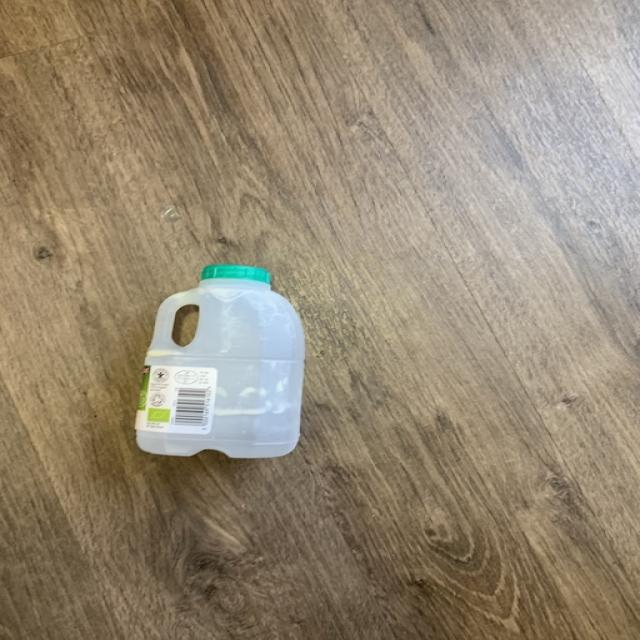litter: (130, 262, 315, 460)
